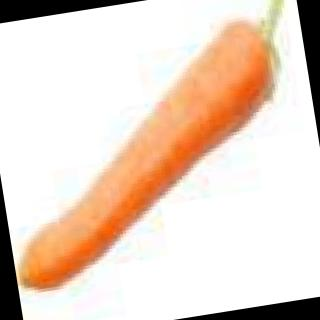Wortel: (1, 1, 320, 302)
